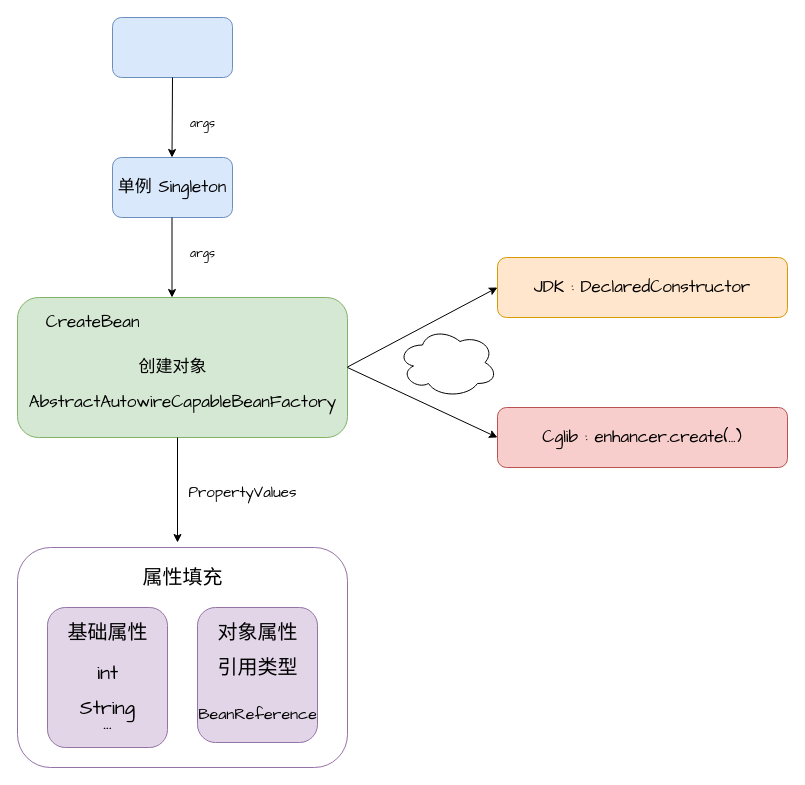
Some shapes in this 805 by 785 pixel diagram are drawn without their labels. Here are the shapes that lost their labels. From the top down, the box of each, then its label:
(112, 16, 232, 78): 获取对象 Get
(396, 326, 498, 398): 策略模式
